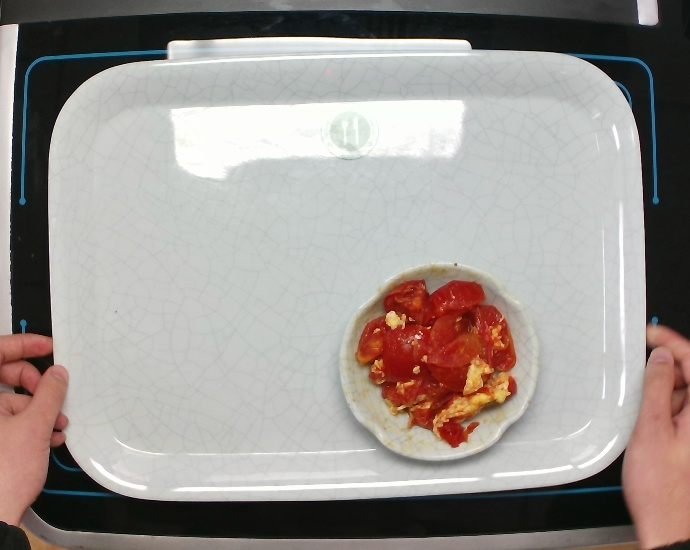JYsf-Ao_Yuan_Wan: (336, 261, 540, 465)
